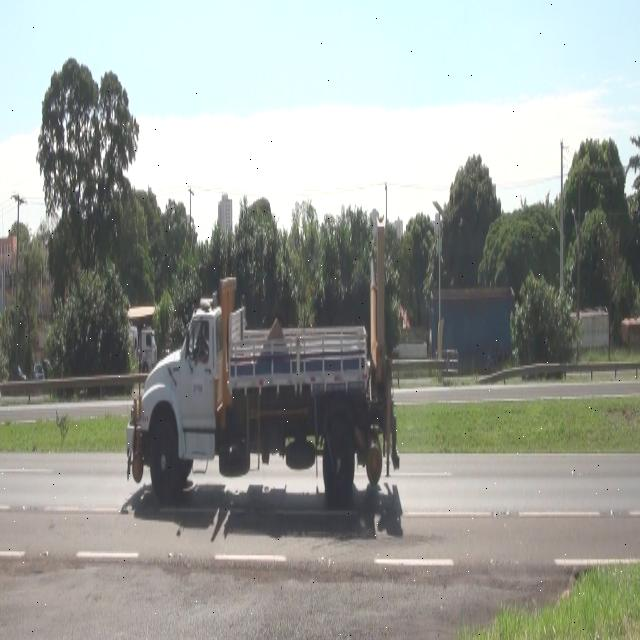-axle: (320, 426, 356, 512), (147, 418, 180, 502)
